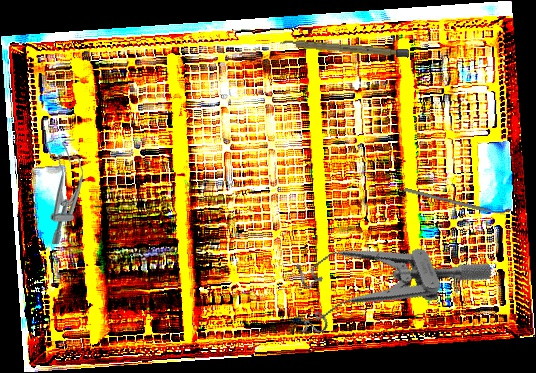Pusher: (404, 187, 512, 219)
Scalpel Handle: (279, 38, 410, 58)
Speculum: (278, 198, 494, 351), (44, 137, 84, 245)
